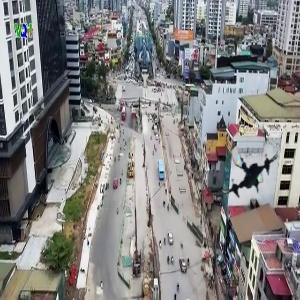drone: (217, 139, 283, 205)
